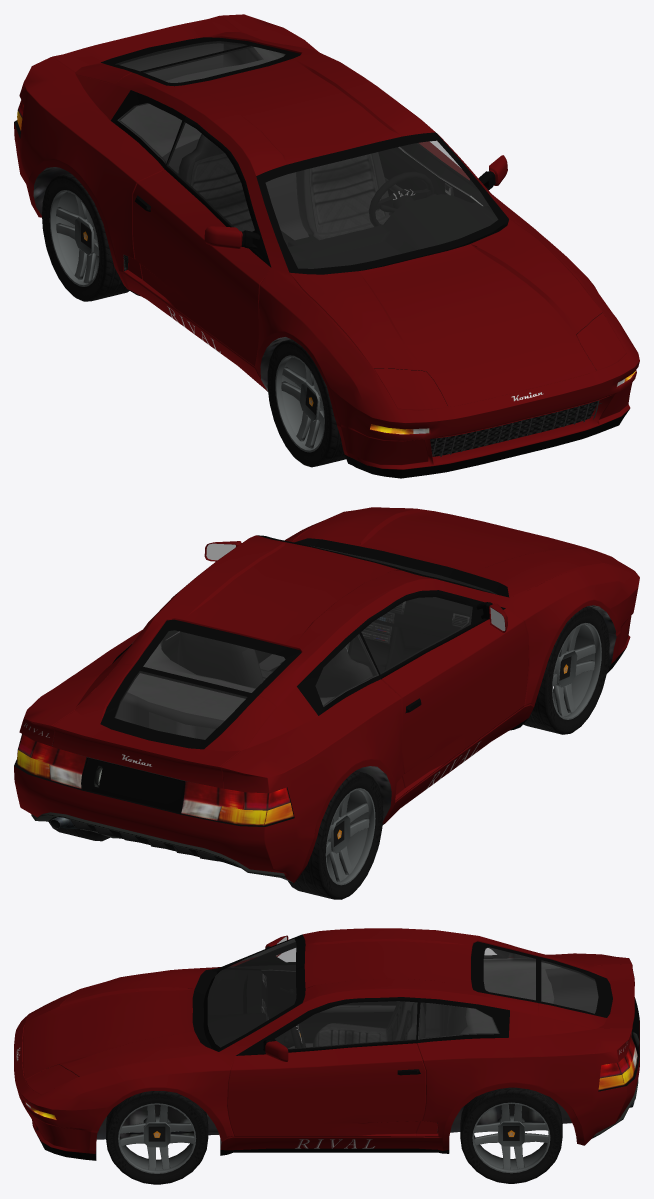
The model's file is car.glb.
3 renders of one model, top to bottom at view 1: azimuth 30°, elevation 25°; view 2: azimuth 150°, elevation 25°; view 3: azimuth 270°, elevation 25°, orthographic. The views are drawn at different scales.
Visible parts, largest first — view 1: trunkpaint.001_0; view 2: trunkpaint.001_0; view 3: trunkpaint.001_0.
Boxes of the visible parts, x1,y1,x2,y2 form: trunkpaint.001_0: (14, 14, 639, 478); trunkpaint.001_0: (14, 507, 639, 899); trunkpaint.001_0: (14, 928, 639, 1184).
Size of the model in its own units: 0.2686 by 0.1878 by 0.6165.
Materials: 22 (10 with a texture image).
